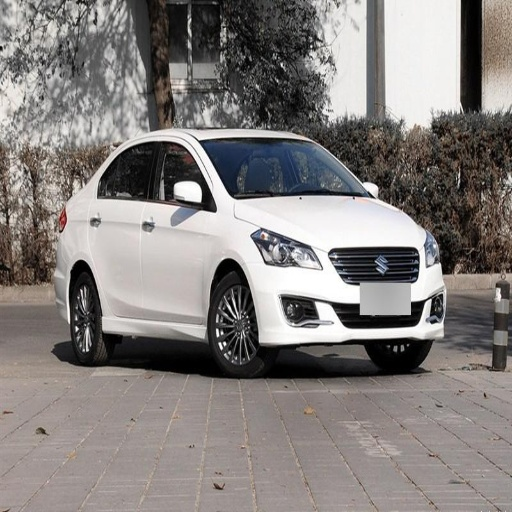back_right_door: (89, 140, 156, 318)
front_bumper: (248, 243, 446, 341)
front_right_door: (142, 139, 215, 323)
front_right_light: (251, 228, 320, 268)
